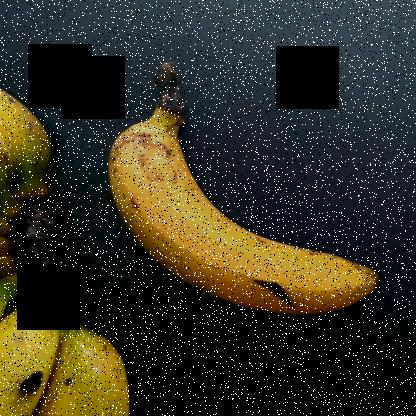ripe: (109, 102, 385, 340)
